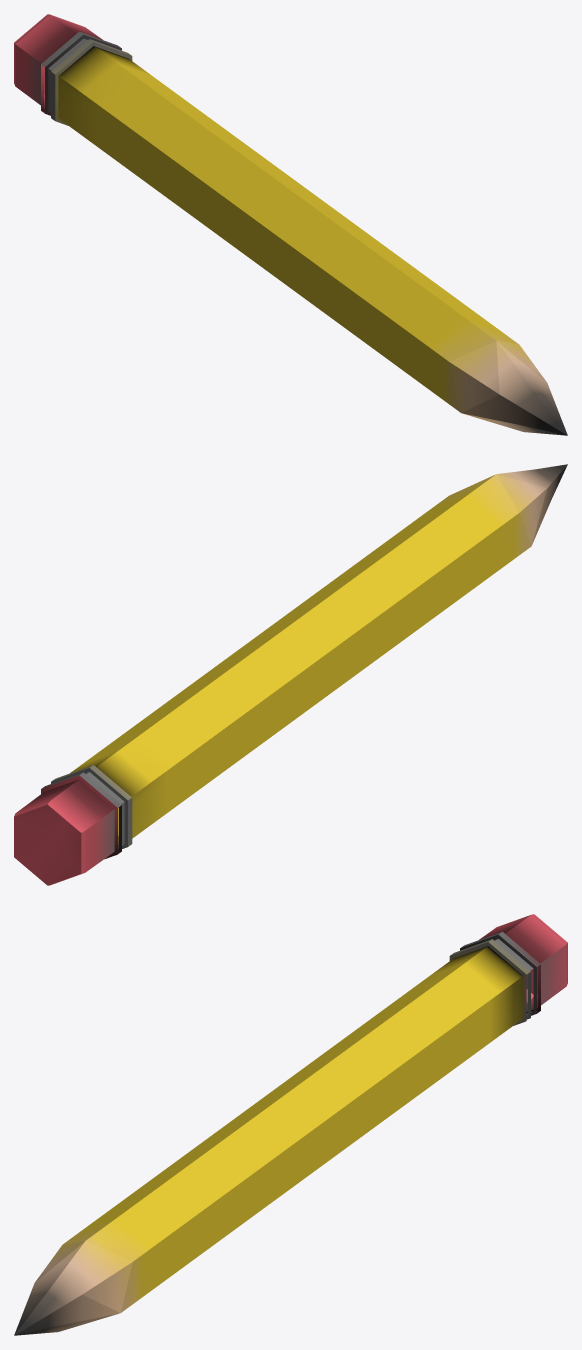
Rendered from Lapiz.fbx.
3 views of the same model, one above another, from view 1: azimuth 30°, elevation 25°; view 2: azimuth 150°, elevation 25°; view 3: azimuth 330°, elevation 25° (orthographic).
Visible parts, largest first — view 1: Lapiz; view 2: Lapiz; view 3: Lapiz.
Boxes of the visible parts, <box> form: Lapiz: <box>14,14,567,435</box>; Lapiz: <box>14,464,567,885</box>; Lapiz: <box>14,914,567,1335</box>.
Size of the model in its own units: 2.44 by 2.81 by 28.53.
